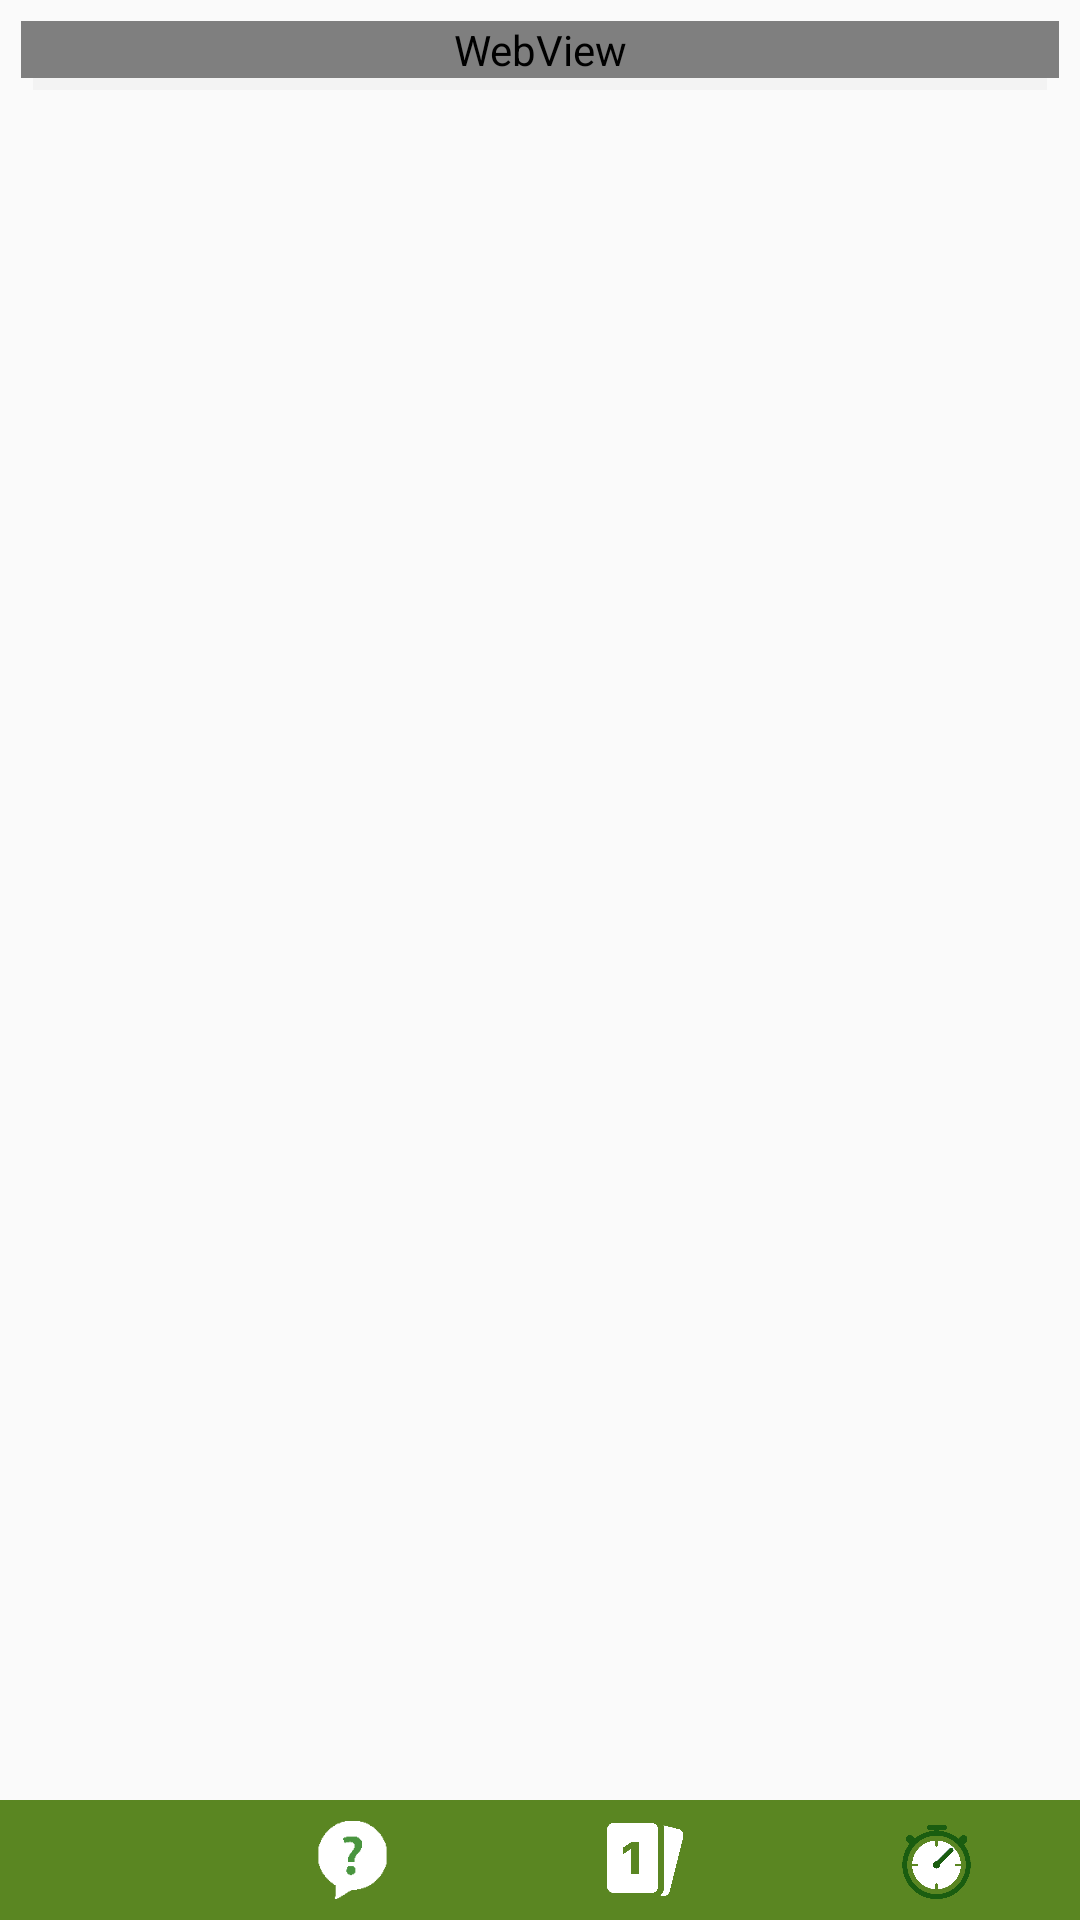

Named icons in this screenshot (1080px×1920px) and their bounding boxes, (x1, y1, x2, y2):
cards: (607, 1823, 683, 1896)
questions: (318, 1821, 387, 1899)
secund: (902, 1825, 971, 1899)
